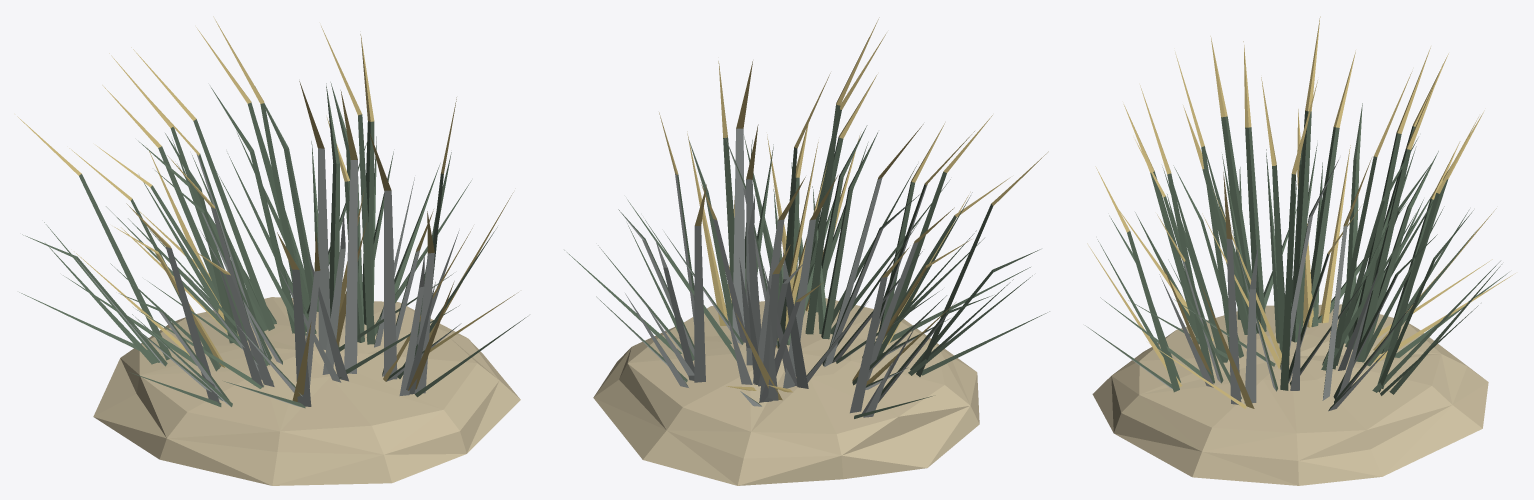
The model's file is marram-grass-tuft-8c7a99.glb.
The picture shows the model from 3 angles, left to right: view 1: azimuth 30°, elevation 25°; view 2: azimuth 150°, elevation 25°; view 3: azimuth 270°, elevation 25°; orthographic projection. The views are drawn at different scales.
Parts seen in each view (by area): view 1: marram-grass-tuft-8c7a99; view 2: marram-grass-tuft-8c7a99; view 3: marram-grass-tuft-8c7a99.
Boxes of the visible parts, left/top/right/bottom form: marram-grass-tuft-8c7a99: left=17, top=16, right=527, bottom=485; marram-grass-tuft-8c7a99: left=564, top=17, right=1049, bottom=485; marram-grass-tuft-8c7a99: left=1085, top=16, right=1515, bottom=485.
Size of the model in its own units: 1.16 by 0.9283 by 1.08.
